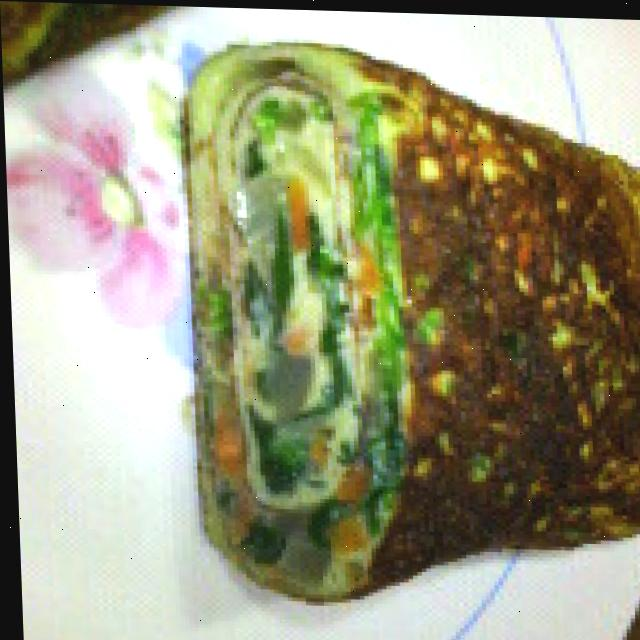鸡蛋料理: (172, 30, 640, 629)
